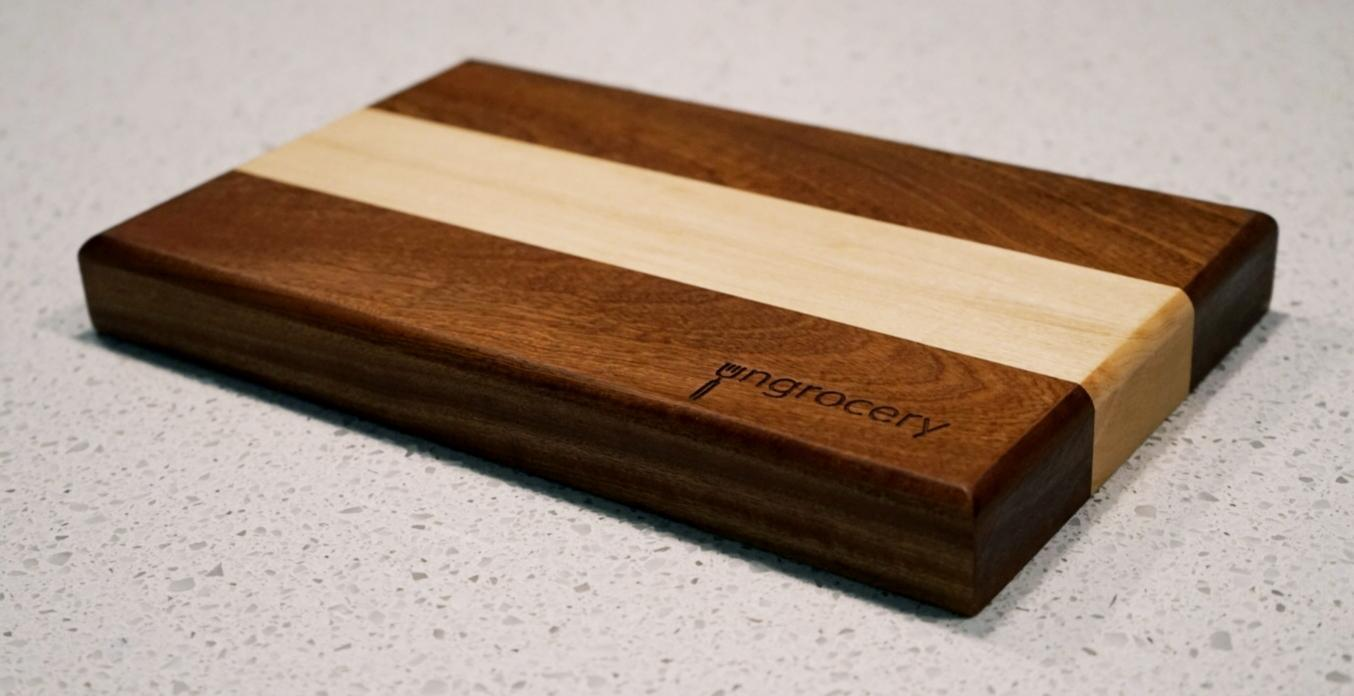gloved_hand: (60, 45, 1298, 637)
